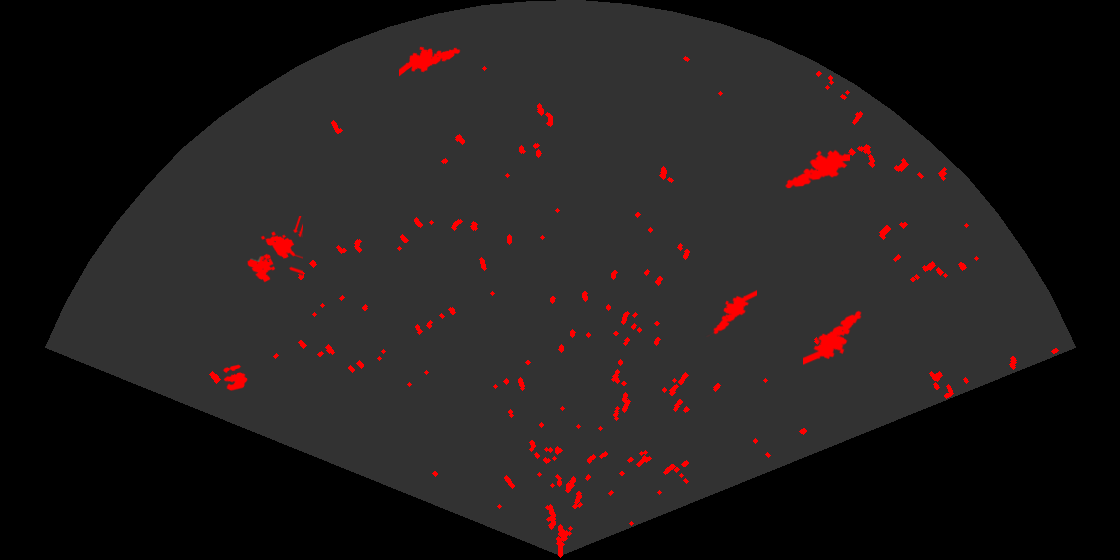ball: (221, 363, 249, 392)
cage: (246, 216, 303, 284)
frogman: (803, 309, 863, 367), (784, 148, 850, 190), (705, 288, 757, 337), (399, 45, 462, 78)
